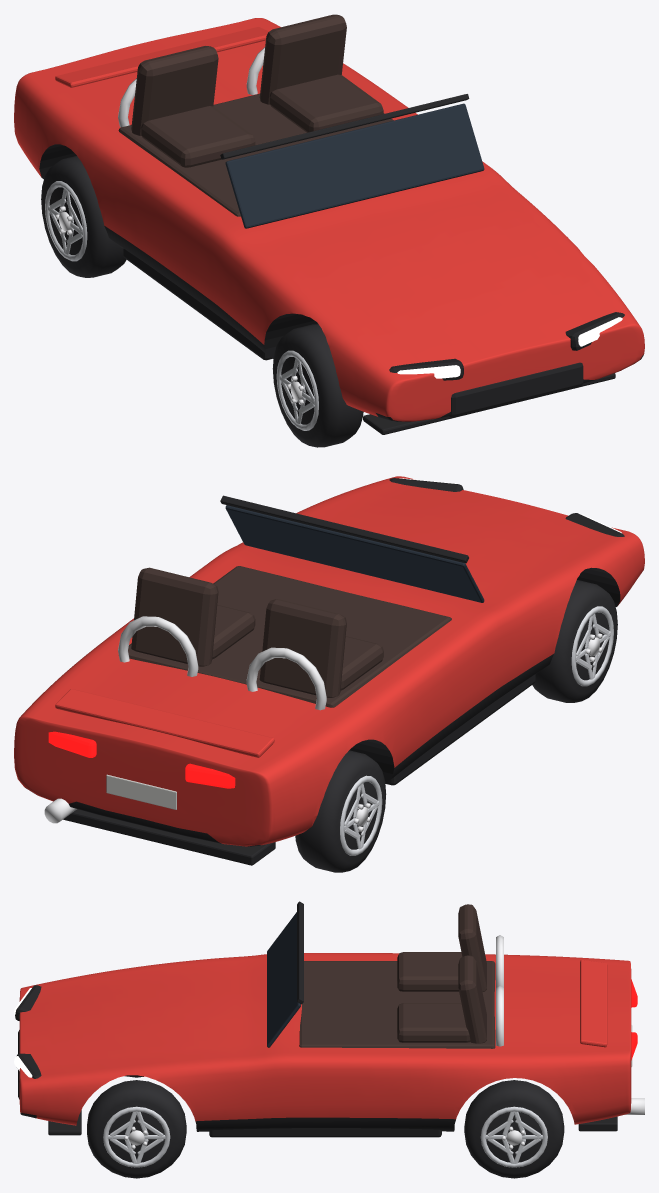
File: velora_mid.glb
The picture shows the model from 3 angles, top to bottom: view 1: azimuth 30°, elevation 25°; view 2: azimuth 150°, elevation 25°; view 3: azimuth 270°, elevation 25°; orthographic projection. The views are drawn at different scales.
Visible parts, largest first — view 1: body, wheel_fr, wheel_rr; view 2: body, wheel_rr, wheel_fr; view 3: body, wheel_rl, wheel_fl.
Boxes of the visible parts, bbox=[...] form: body: bbox=[14, 14, 644, 434]; wheel_fr: bbox=[272, 324, 363, 447]; wheel_rr: bbox=[41, 156, 126, 277]; body: bbox=[14, 476, 644, 865]; wheel_rr: bbox=[295, 750, 386, 872]; wheel_fr: bbox=[532, 580, 617, 702]; body: bbox=[14, 901, 644, 1137]; wheel_rl: bbox=[464, 1080, 564, 1178]; wheel_fl: bbox=[87, 1080, 186, 1178].
Size of the model in its own units: 1.88 by 1.33 by 4.18.
